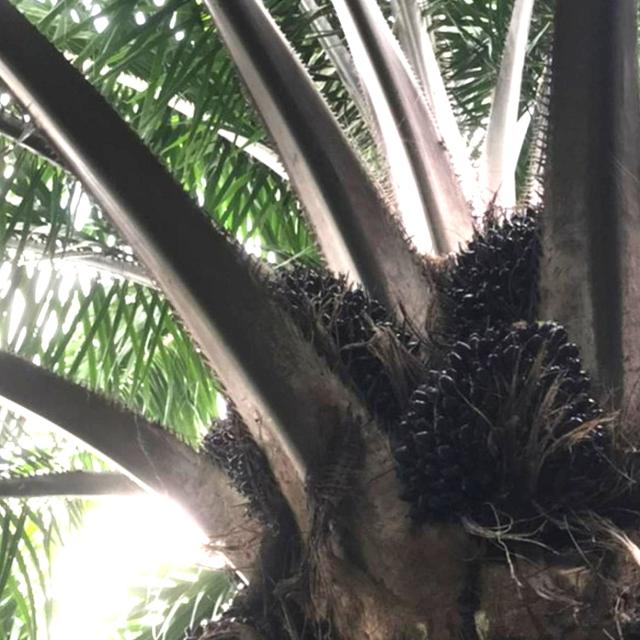almost: (255, 253, 408, 408)
